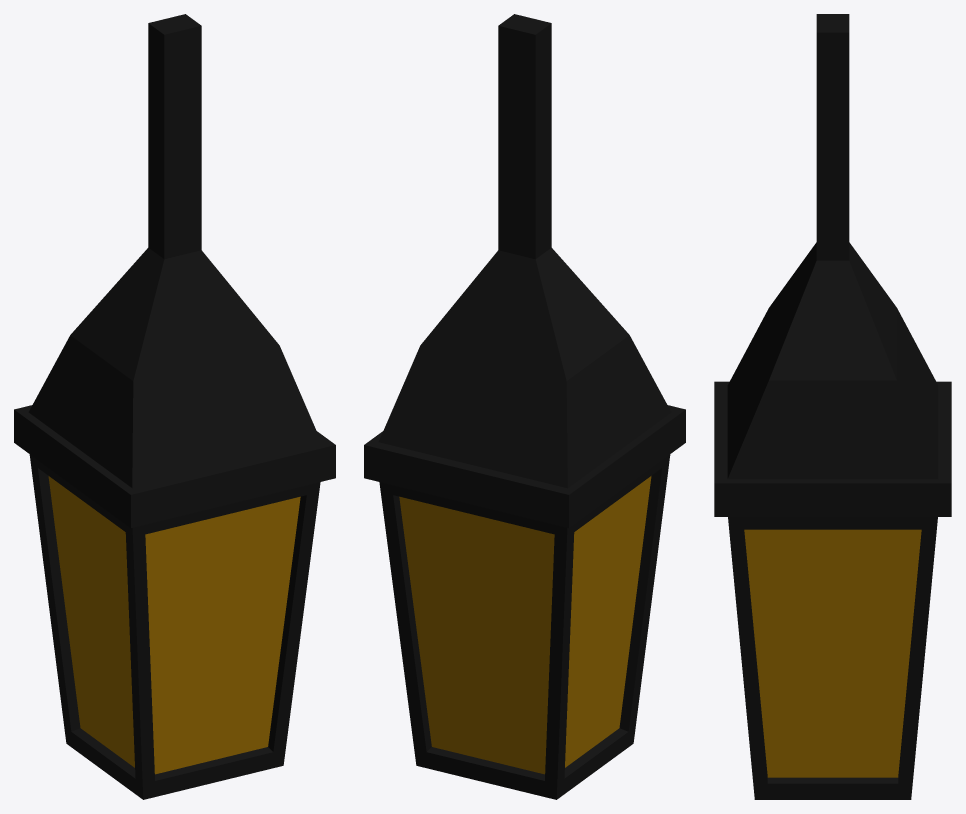
The model's file is SM_Light.fbx.
3 renders of one model, left to right at view 1: azimuth 30°, elevation 25°; view 2: azimuth 150°, elevation 25°; view 3: azimuth 270°, elevation 25°, orthographic.
Visible parts, largest first — view 1: Object077; view 2: Object077; view 3: Object077.
Boxes of the visible parts, x1,y1,x2,y2 form: Object077: (14, 14, 335, 799); Object077: (364, 14, 685, 799); Object077: (714, 14, 951, 799).
Bounding box in the file's own units: 41.64 × 142 × 41.1.
